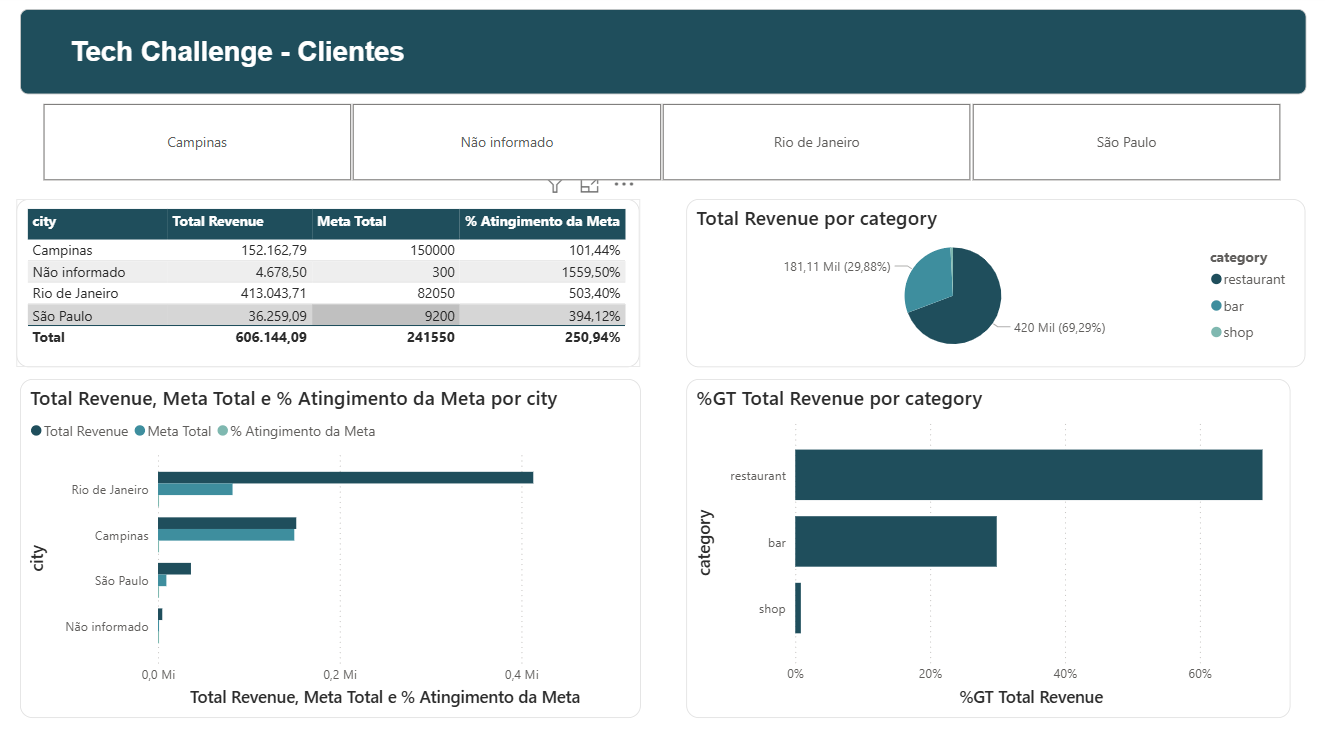

Layout of this report page (visuals, bound fields, positions):
{"tool":"powerbi","page":{"name":"Clientes","canvas":[1280,720],"ordinal":3},"visuals":[{"type":"tableEx","fields":{"Values":["Dim_Clientes.city","Fact_Pedidos.Total Revenue","Fact_Pedidos.Meta Total","Fact_Pedidos.% Atingimento da Meta"]},"box":[15.8,197.3,601.9,162.7],"z":0},{"type":"pieChart","fields":{"Category":["Dim_Clientes.category"],"Y":["Fact_Pedidos.Total Revenue"]},"box":[662.4,197.3,597.6,162.7],"z":1000},{"type":"clusteredBarChart","fields":{"Category":["Dim_Clientes.category"],"Y":["Fact_Pedidos.Total Revenue"]},"box":[662.4,371.5,583.2,326.9],"z":2000},{"type":"clusteredBarChart","fields":{"Category":["Dim_Clientes.city"],"Y":["Fact_Pedidos.Total Revenue","Fact_Pedidos.Meta Total","Fact_Pedidos.% Atingimento da Meta"]},"box":[18.7,371.5,599,326.9],"z":3000},{"type":"textbox","box":[18.7,14.4,1241.3,82.1],"z":4000},{"type":"slicer","fields":{"Values":["Dim_Clientes.city"]},"box":[15.8,99.4,1244.2,87.8],"z":5000}]}

Visuals, with their boxes in screenshot pixels (x1, y1, x2, y2), scaled from the page's 1280x720 canvas onto the 1325x735 screenshot:
tableEx - Dim_Clientes.city x Fact_Pedidos.Total Revenue: [x1=16, y1=201, x2=639, y2=368]
pieChart - Dim_Clientes.category x Fact_Pedidos.Total Revenue: [x1=686, y1=201, x2=1304, y2=368]
clusteredBarChart - Dim_Clientes.category x Fact_Pedidos.Total Revenue: [x1=686, y1=379, x2=1289, y2=713]
clusteredBarChart - Dim_Clientes.city x Fact_Pedidos.Total Revenue: [x1=19, y1=379, x2=639, y2=713]
textbox: [x1=19, y1=15, x2=1304, y2=99]
slicer - Dim_Clientes.city: [x1=16, y1=101, x2=1304, y2=191]
